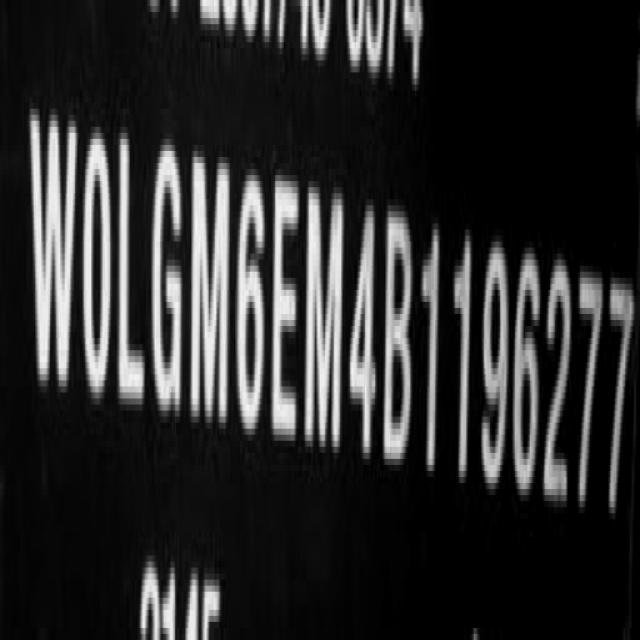0: (82, 122, 115, 414)
1: (451, 215, 476, 496), (421, 209, 442, 488)
2: (546, 249, 575, 514)
4: (348, 190, 382, 472)
6: (235, 162, 269, 448), (512, 237, 543, 509)
7: (605, 265, 636, 529), (575, 259, 603, 524)
9: (479, 233, 510, 499)
B: (387, 196, 418, 477)
E: (270, 171, 300, 456)
G: (150, 120, 187, 432)
L: (117, 123, 148, 420)
M: (188, 147, 233, 441), (300, 179, 346, 452)
W: (29, 102, 80, 409)
